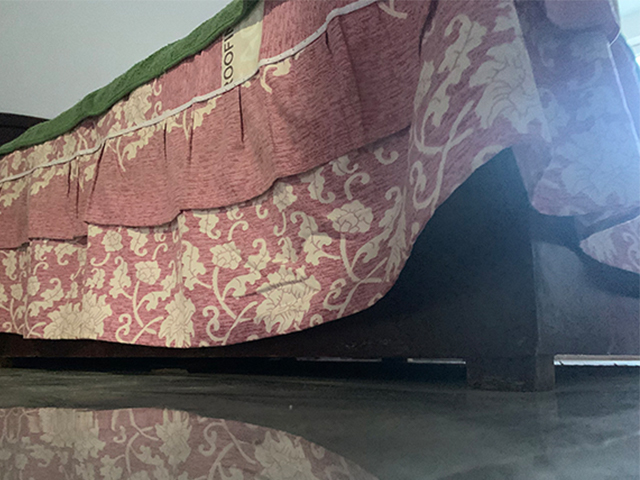bed: (1, 1, 640, 392)
